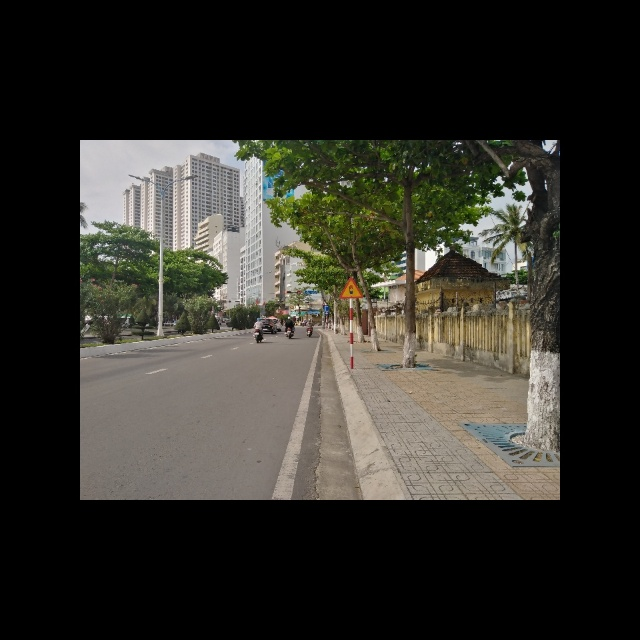Giao nhau có tín hiệu đèn: (338, 274, 364, 299)
